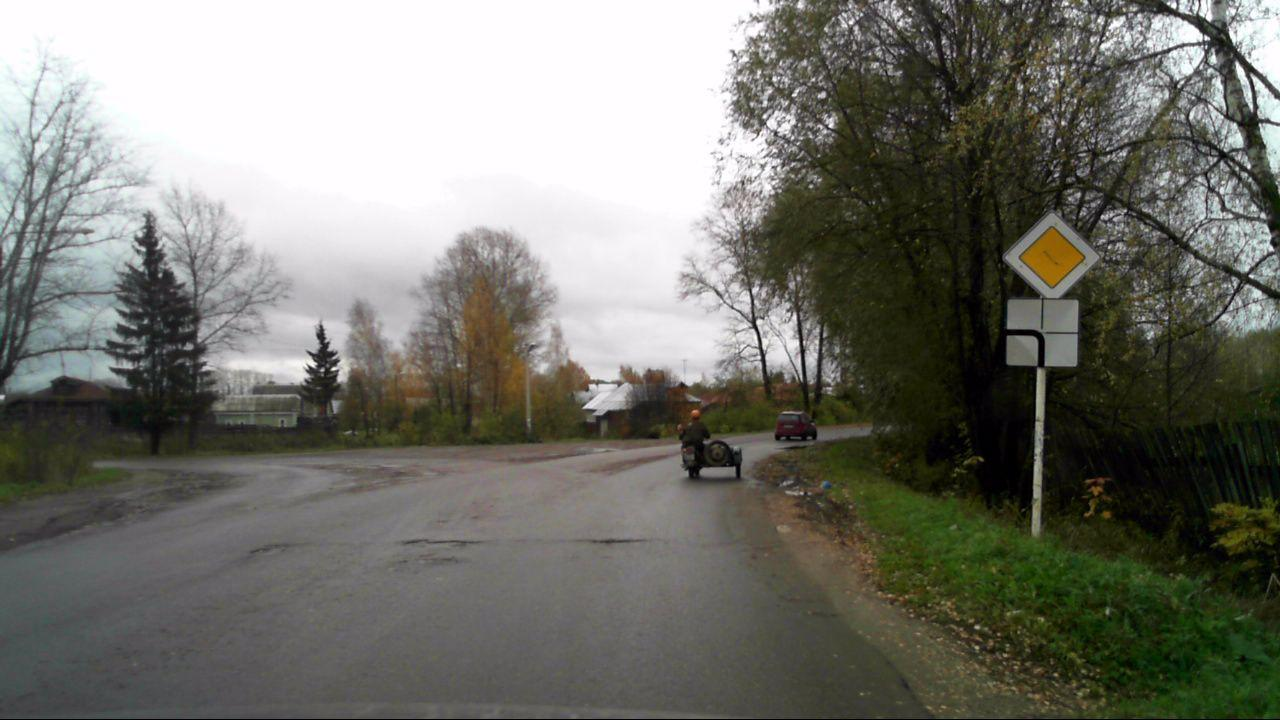2_1: (1000, 207, 1096, 296)
8_13: (1004, 296, 1080, 369)
